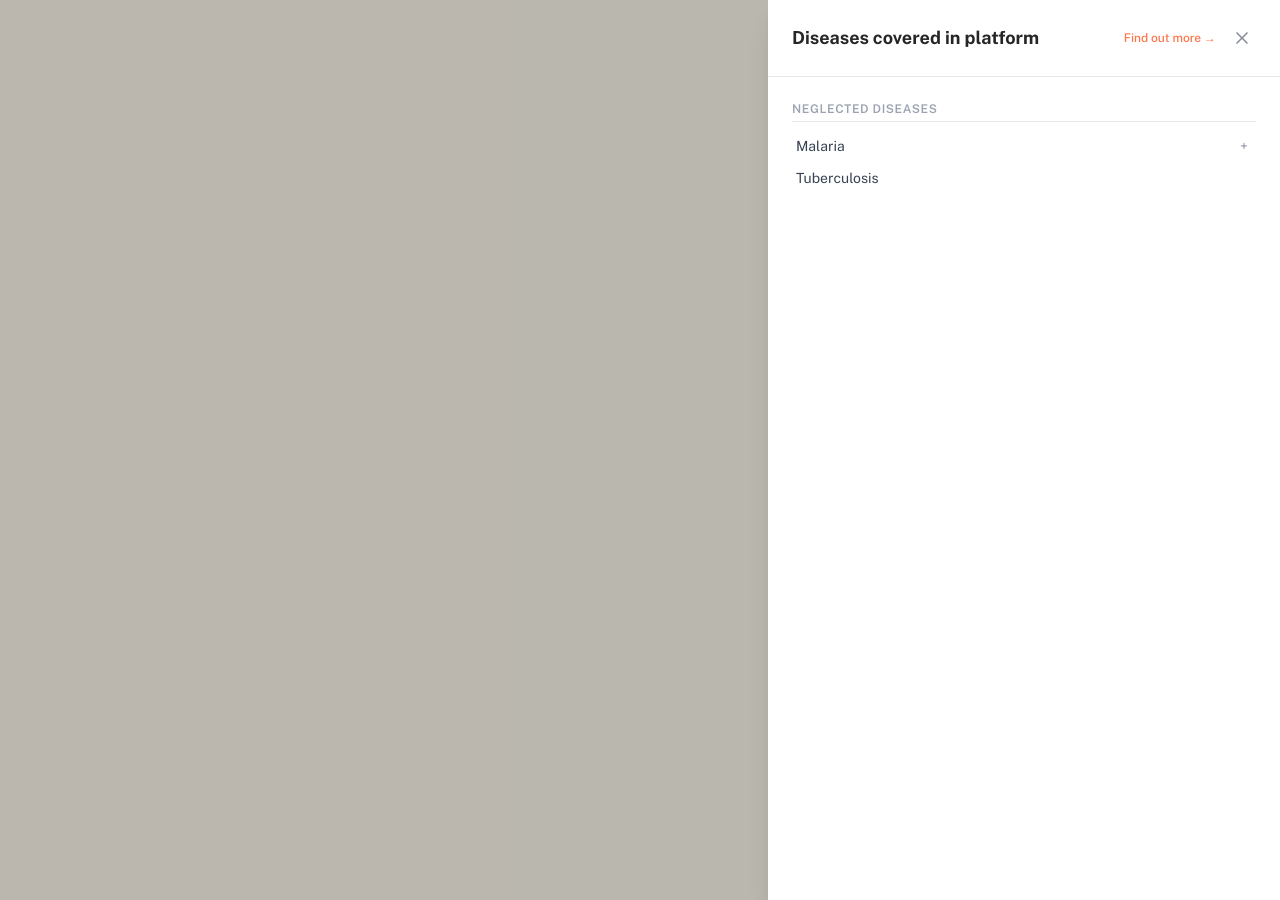
Test: DiseaseListPanel leaf rows › renders an expanded sub-disease as a single button containing the name and Explore hint
Click the button named "Expand" at (1244, 146), box left=1232, top=134, right=1256, bottom=158
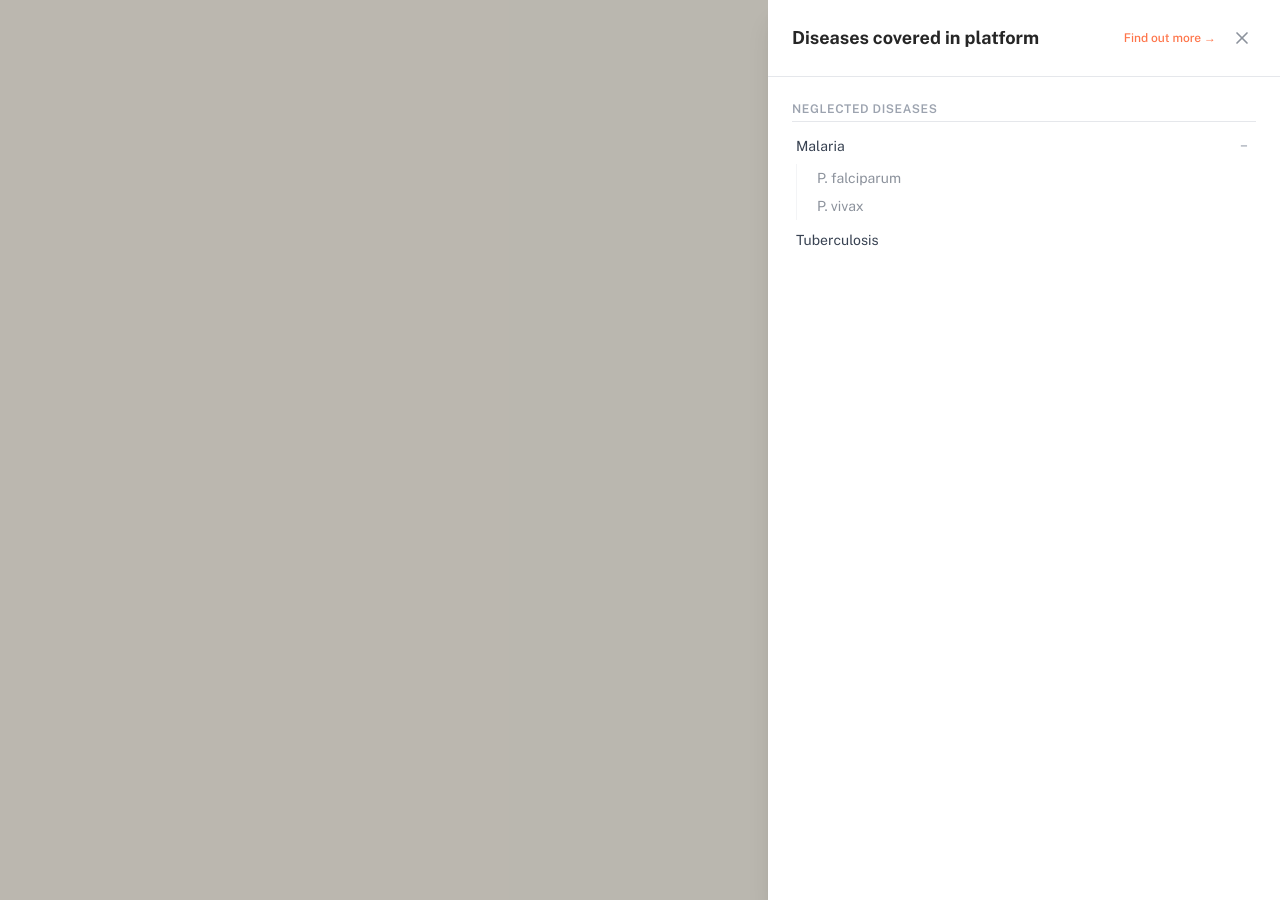
expect the button "P. falciparum" is shown: met, box left=813, top=164, right=1256, bottom=192
